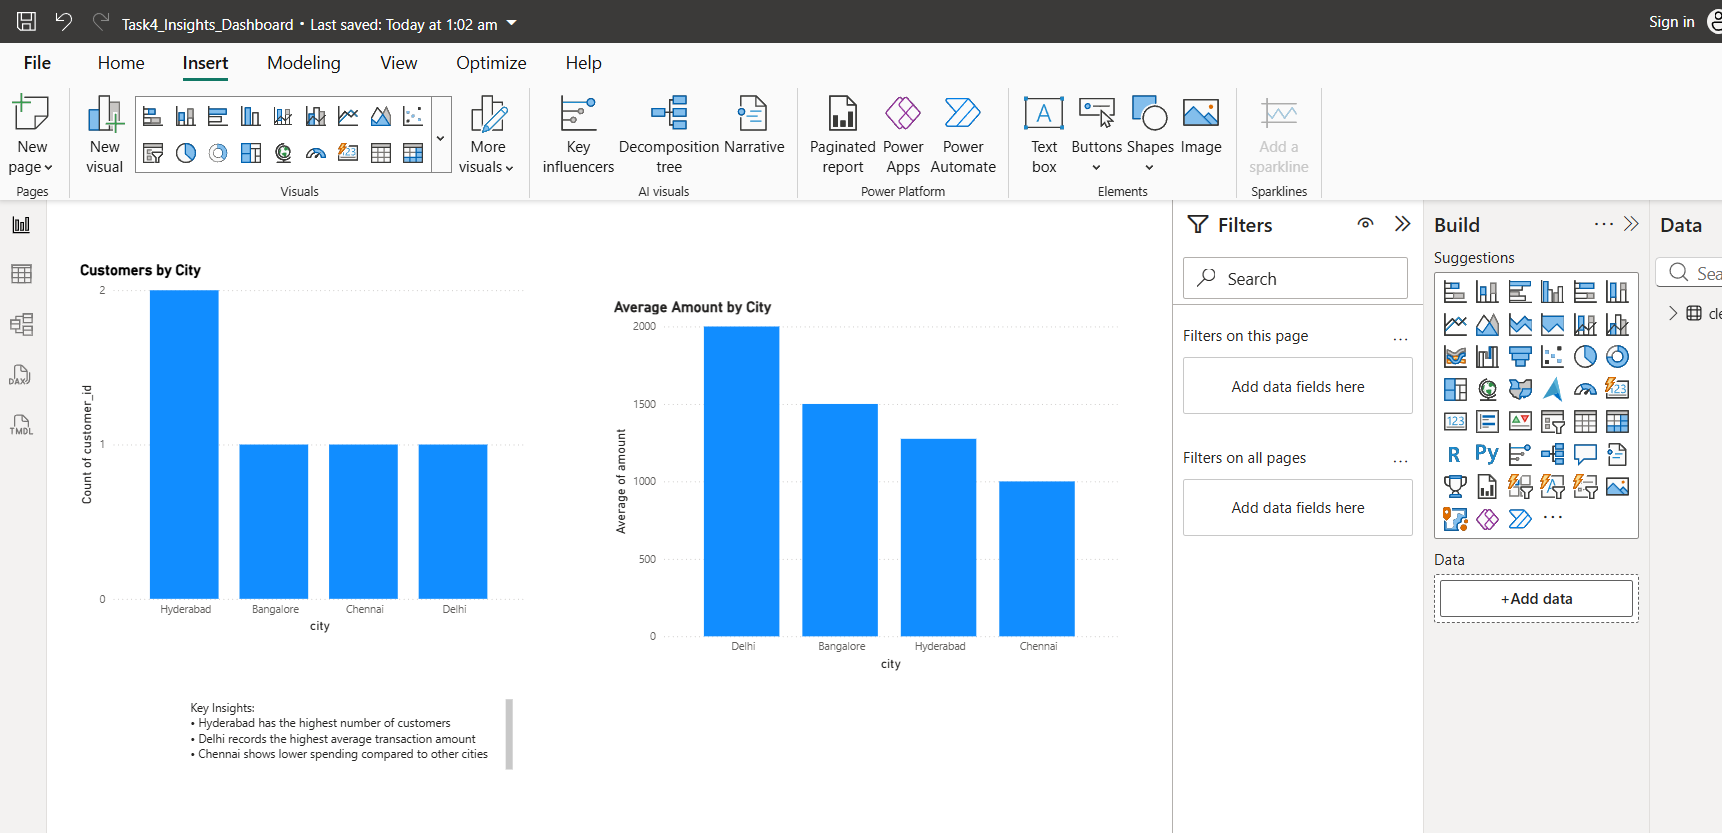

This screenshot's page, from the dashboard's own definition file:
{"tool":"powerbi","page":{"name":"Page 1","canvas":[1280,720],"ordinal":0},"visuals":[{"type":"clusteredColumnChart","title":"Customers by City","fields":{"Y":["CountNonNull(cleaned_data_final.customer_id)"],"Category":["cleaned_data_final.city"]},"box":[32.7,69.7,517.7,428.1],"z":0},{"type":"clusteredColumnChart","title":"Average Amount by City","fields":{"Category":["cleaned_data_final.city"],"Y":["Avg(cleaned_data_final.amount)"]},"box":[640,110.9,583.1,429.5],"z":1000},{"type":"textbox","box":[157.9,563.2,376.9,93.9],"z":1001}]}

Visuals, with their boxes on the page's 1280x720 design canvas (x1, y1, x2, y2). These are canvas units, not pixel positions in the 1722x833 screenshot, which may show the page scaled, cropped or inside an application window:
"Customers by City" clusteredColumnChart: {"x1": 33, "y1": 70, "x2": 550, "y2": 498}
"Average Amount by City" clusteredColumnChart: {"x1": 640, "y1": 111, "x2": 1223, "y2": 540}
textbox: {"x1": 158, "y1": 563, "x2": 535, "y2": 657}
